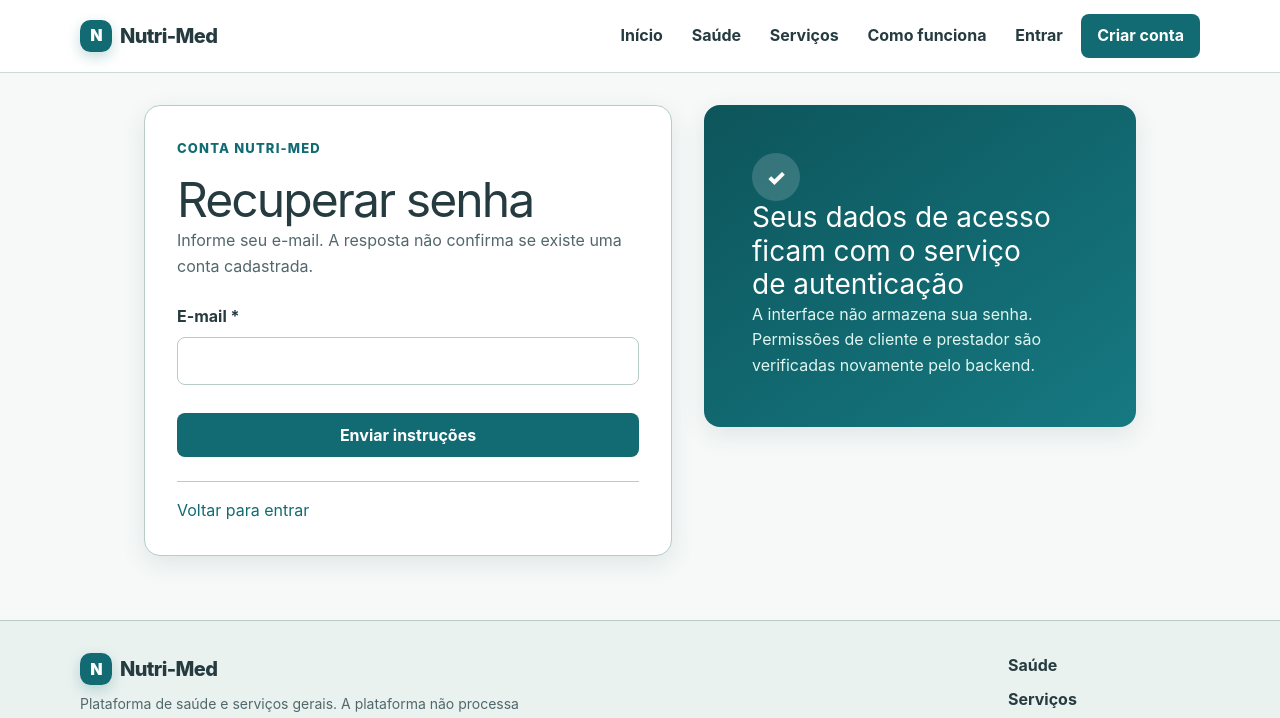
Test: autenticação › distingue falha de rede sem enumerar contas na recuperação
The image size is (1280, 718).
Type "pessoa@example.invalid" into the field labelled "E-mail *" at (408, 361), box [177, 337, 639, 385]
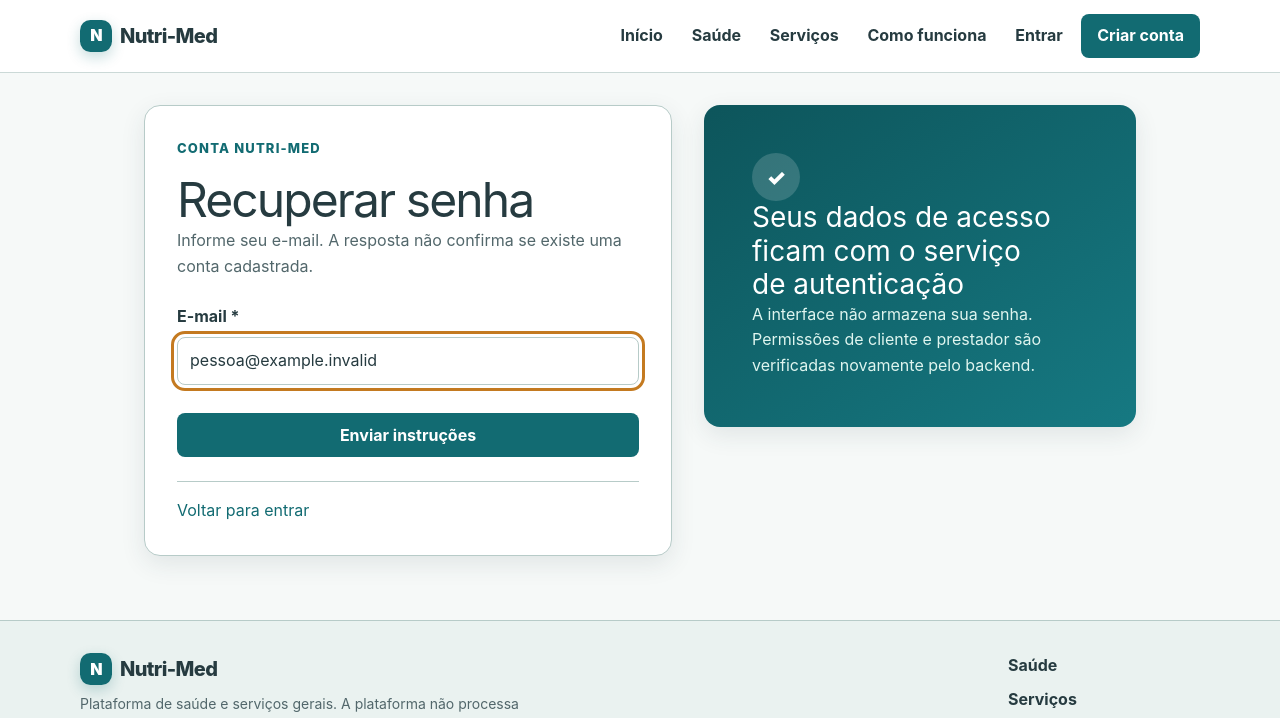
Click the button "Enviar instruções" at (408, 435), box [177, 413, 639, 457]
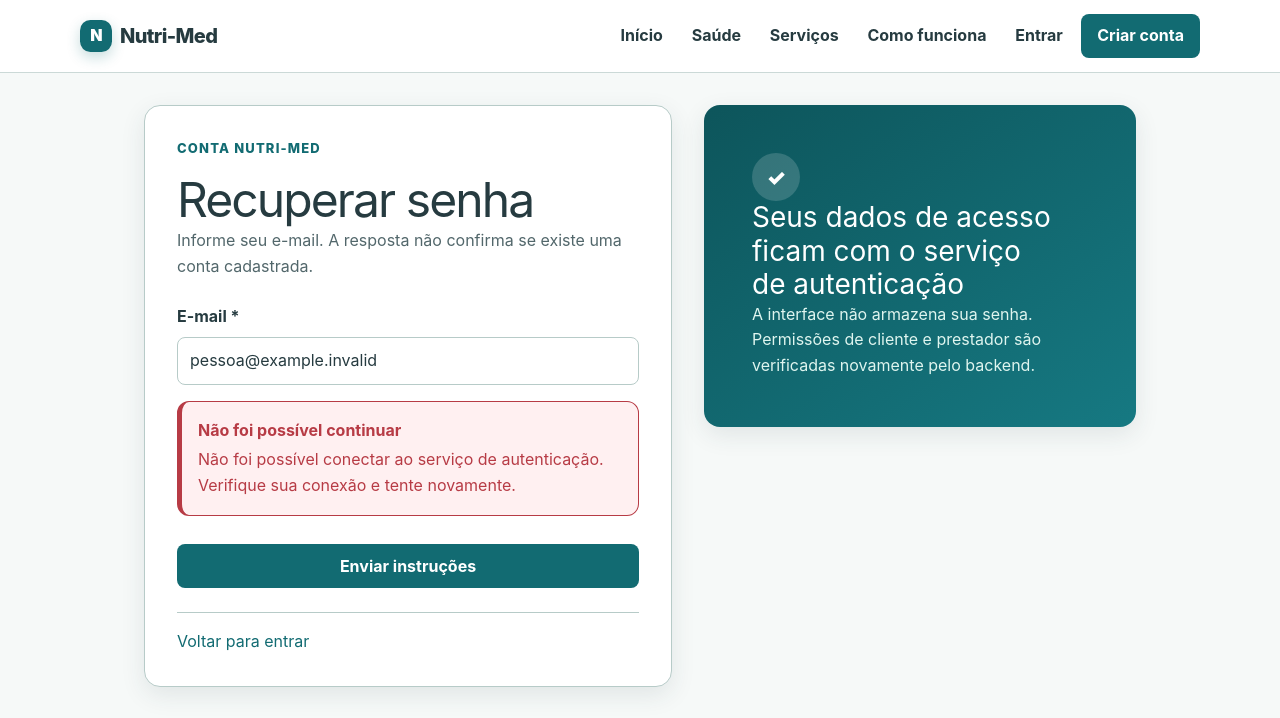
Now the text "Não foi possível conectar" is shown, box [198, 449, 604, 495]
